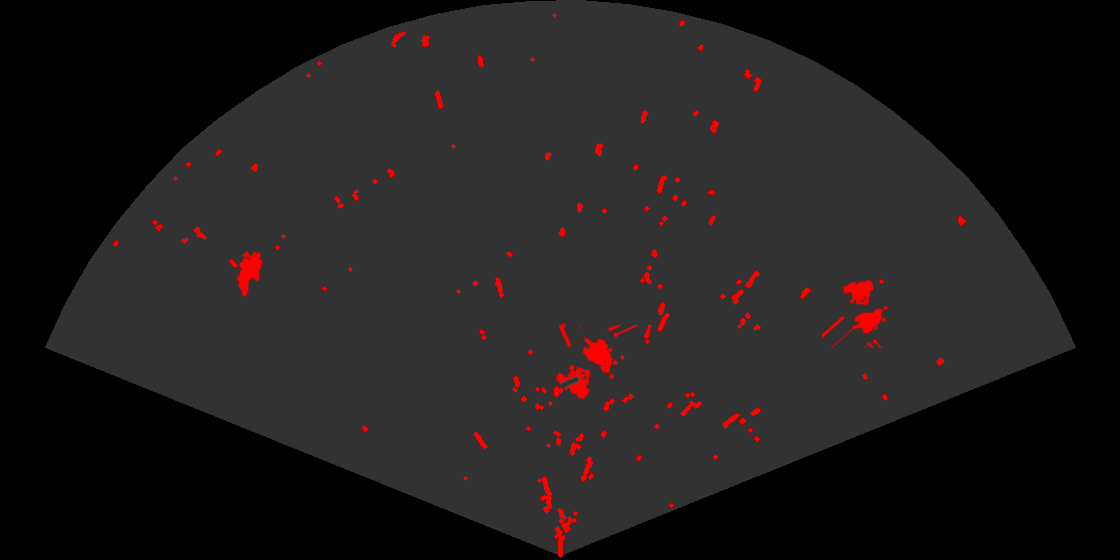AUV: (235, 250, 264, 299)
cage: (554, 325, 639, 401), (822, 278, 890, 348)
